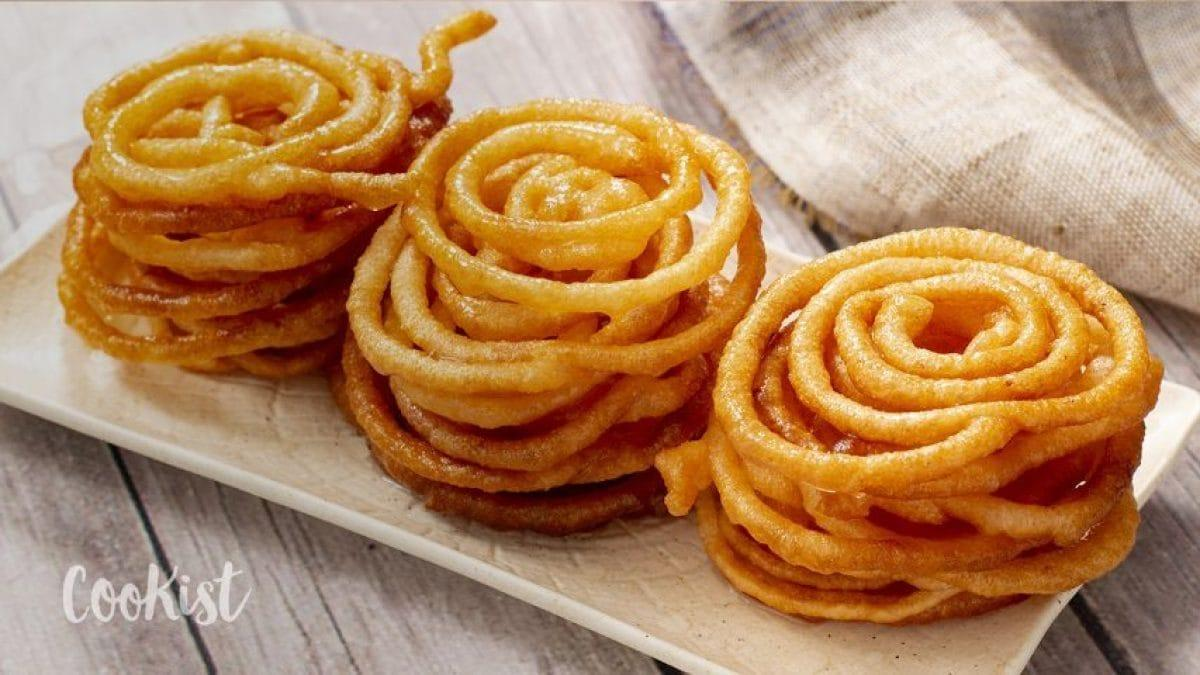jalebi: (414, 23, 732, 542), (754, 235, 1162, 612), (64, 39, 390, 408)
